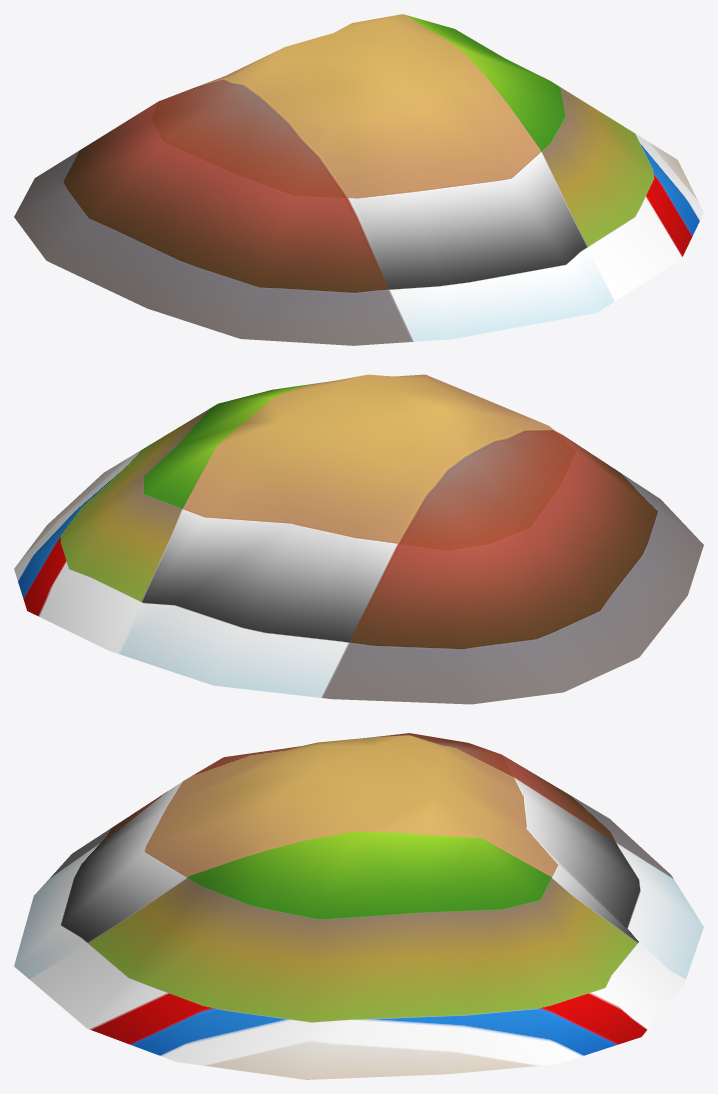
File: green patch.fbx
3 renders of one model, top to bottom at view 1: azimuth 30°, elevation 25°; view 2: azimuth 150°, elevation 25°; view 3: azimuth 270°, elevation 25°, orthographic. The views are drawn at different scales.
Visible parts, largest first — view 1: TerrainPatchGreen; view 2: TerrainPatchGreen; view 3: TerrainPatchGreen.
Boxes of the visible parts, left/top/right/bottom form: TerrainPatchGreen: left=14, top=14, right=703, bottom=345; TerrainPatchGreen: left=14, top=374, right=703, bottom=704; TerrainPatchGreen: left=14, top=733, right=703, bottom=1079.
Bounding box in the file's own units: 14.95 × 3.85 × 14.49.
